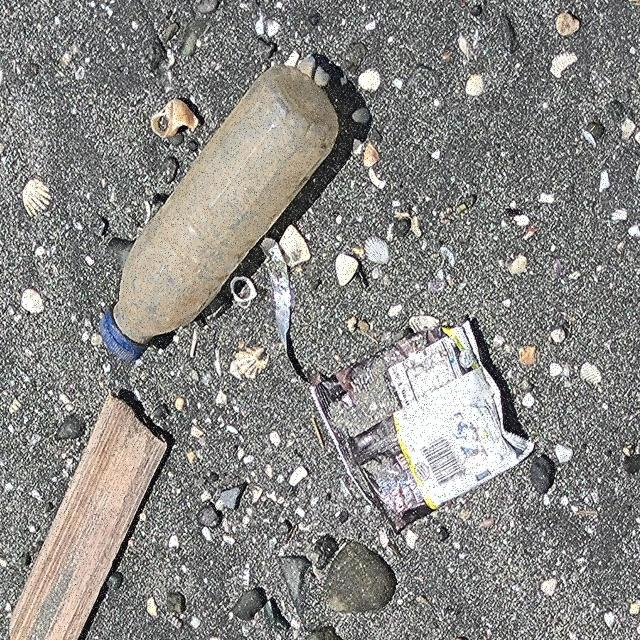plastic_waste: (101, 65, 340, 361), (309, 319, 533, 538)
wood_waste: (9, 395, 169, 640)
